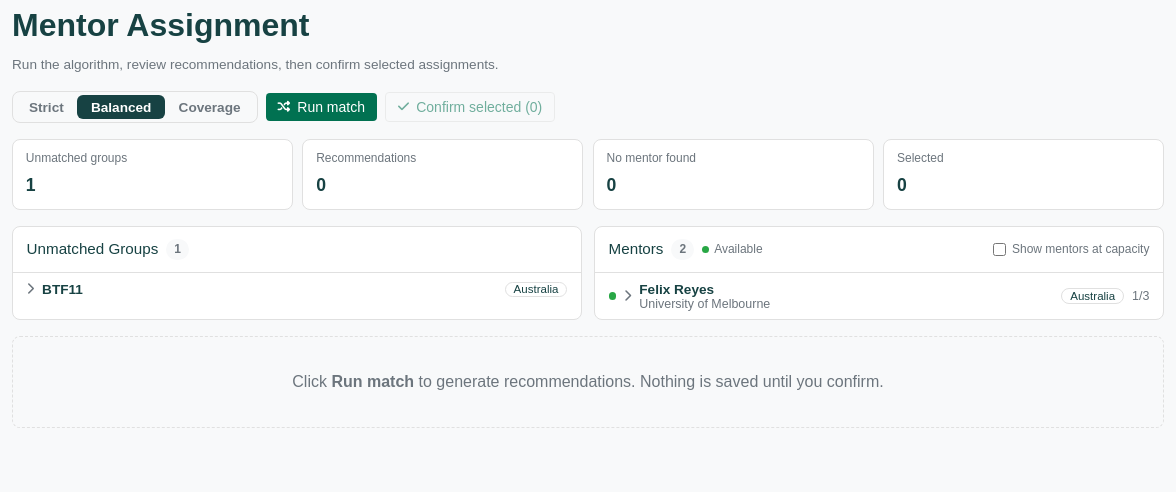
Test: MentorMatchingPanel › hides mentors at capacity until the toggle is on
The width and height of the screenshot is (1176, 492).
Expected: the text "Oscar Nguyen" is not shown
Click the checkbox labelled "Show mentors at capacity" at (1000, 249), box [993,243,1006,256]
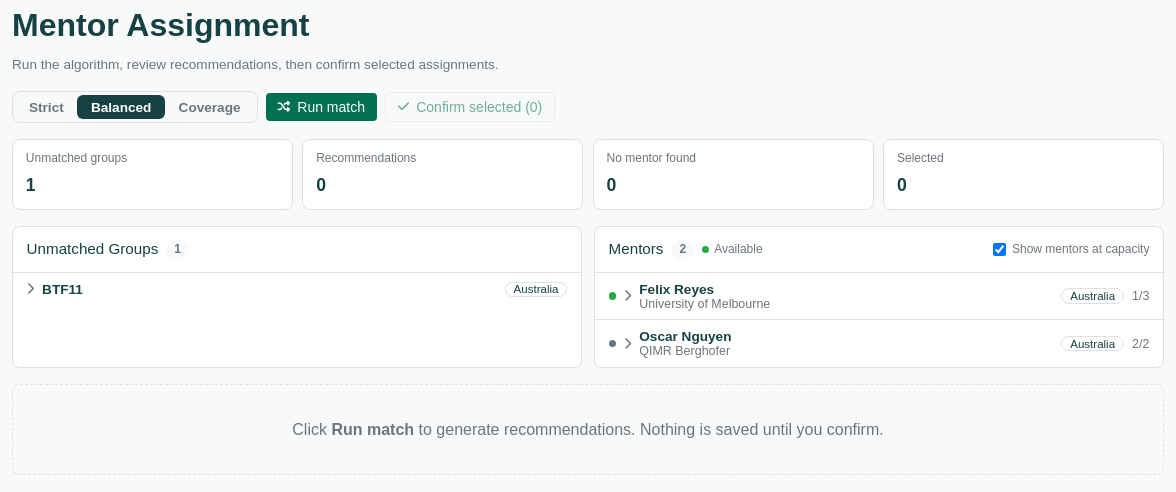
Expected: the text "Oscar Nguyen" is shown, [639,329,732,344]
